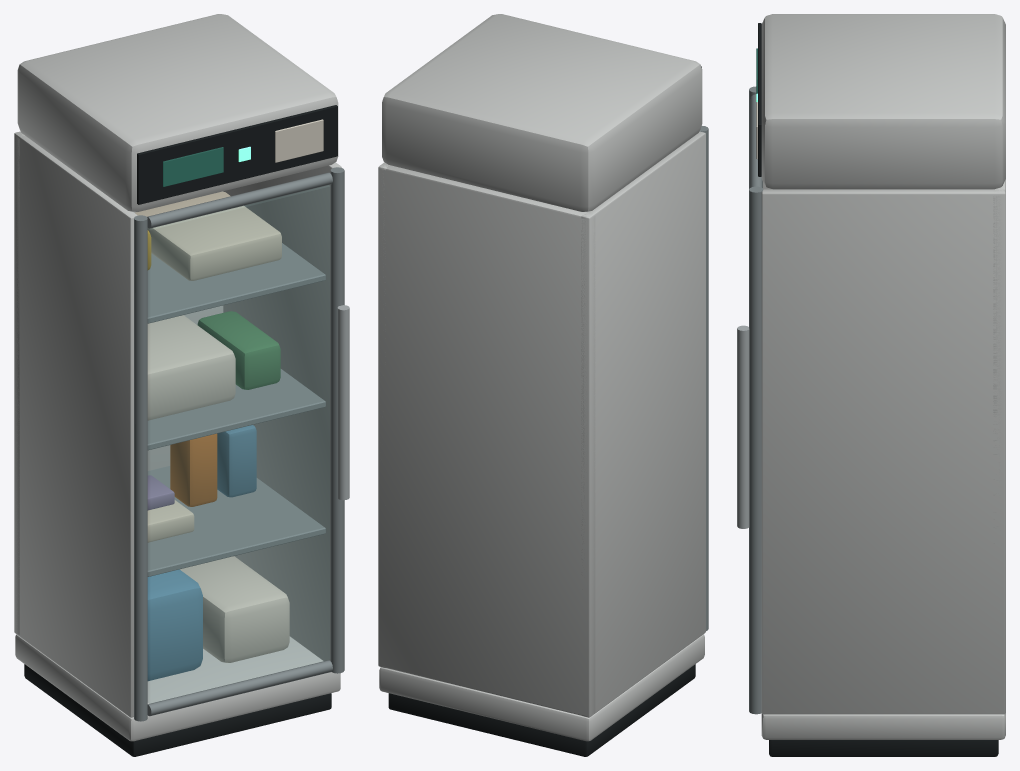
Rendered from lab-fridge.glb.
The picture shows the model from 3 angles, left to right: view 1: azimuth 30°, elevation 25°; view 2: azimuth 150°, elevation 25°; view 3: azimuth 270°, elevation 25°; orthographic projection. The views are drawn at different scales.
Visible parts, largest first — view 1: lab-fridge; view 2: lab-fridge; view 3: lab-fridge.
Boxes of the visible parts, left/top/right/bottom form: lab-fridge: left=14, top=14, right=349, bottom=756; lab-fridge: left=378, top=14, right=708, bottom=756; lab-fridge: left=737, top=14, right=1005, bottom=756.
Bounding box in the file's own units: 0.7 × 1.95 × 0.7375.
